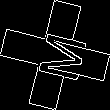M_W: (25, 27, 85, 83)
